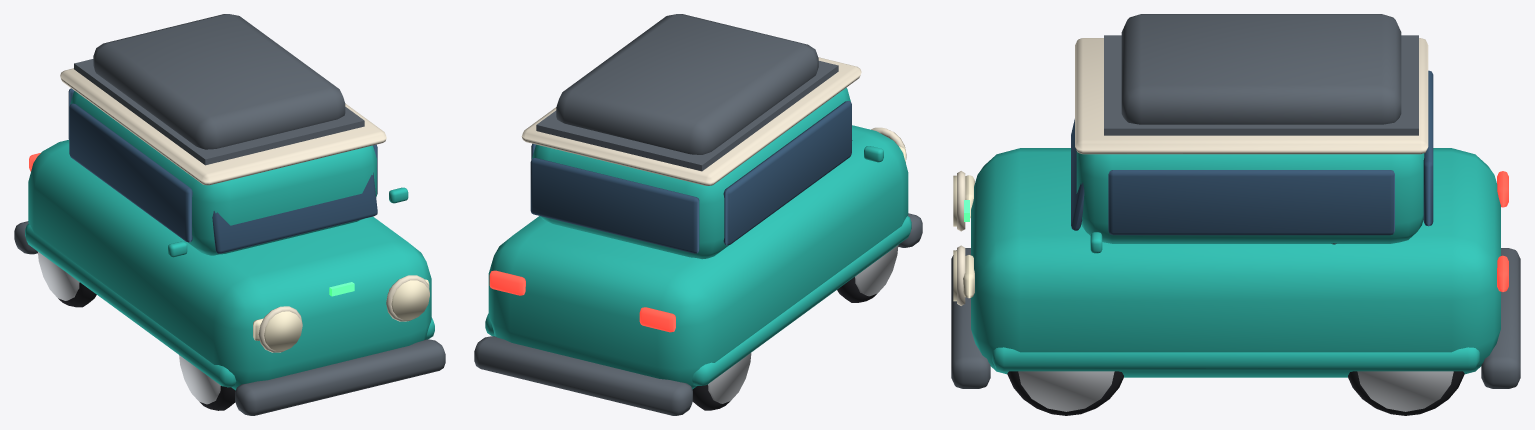
Rendered from ecar.gltf.
3 renders of one model, left to right at view 1: azimuth 30°, elevation 25°; view 2: azimuth 150°, elevation 25°; view 3: azimuth 270°, elevation 25°, orthographic. The views are drawn at different scales.
Visible parts, largest first — view 1: ecar_body, WHEEL_fr_mesh, WHEEL_rr_mesh; view 2: ecar_body, WHEEL_rr_mesh, WHEEL_fr_mesh; view 3: ecar_body, WHEEL_fl_mesh, WHEEL_rl_mesh.
Part boxes in pixels (x1=…): ecar_body: x1=14, y1=14, x2=445, y2=415; WHEEL_fr_mesh: x1=179, y1=355, x2=235, y2=410; WHEEL_rr_mesh: x1=37, y1=251, x2=96, y2=307; ecar_body: x1=474, y1=14, x2=922, y2=415; WHEEL_rr_mesh: x1=692, y1=353, x2=751, y2=410; WHEEL_fr_mesh: x1=837, y1=245, x2=898, y2=302; ecar_body: x1=951, y1=14, x2=1520, y2=388; WHEEL_fl_mesh: x1=1007, y1=371, x2=1123, y2=415; WHEEL_rl_mesh: x1=1348, y1=371, x2=1464, y2=415.
Size of what is drawn, in the model's own units: 1.68 by 1.76 by 2.9.
